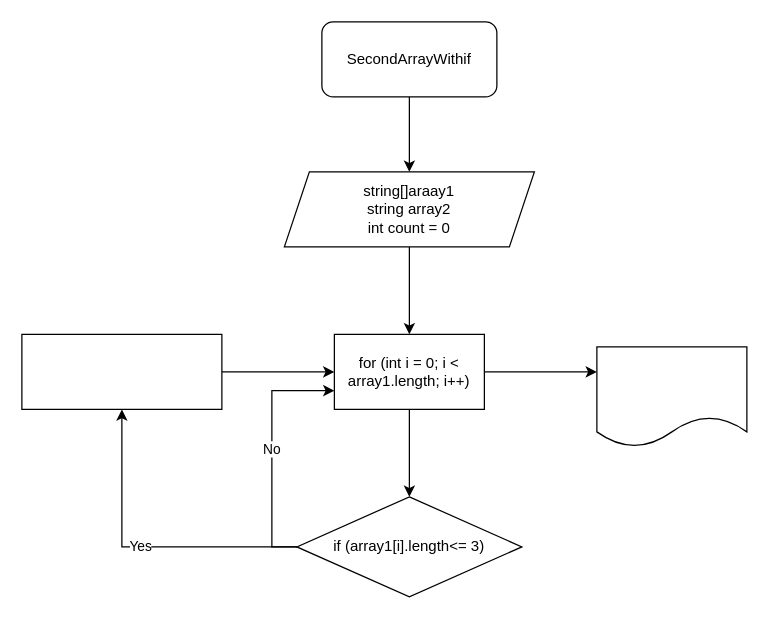
The diagram is 769 pixels wide and 619 high, and some of its shapes have lost their labels. The shapes that lost their labels are listed below. From the top down, each one's box as (x1, y1, x2, y2) in pixels, then its label:
(21, 333, 222, 409): array2[count] = array1[i] count++;
(596, 346, 747, 447): Print
